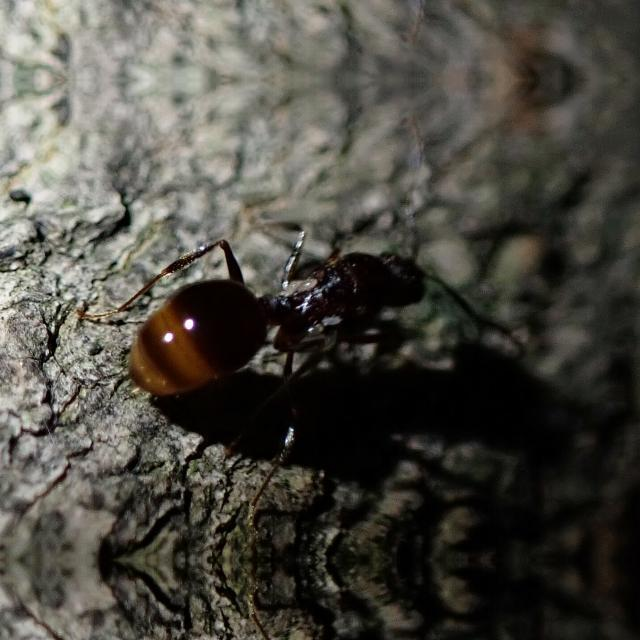Apheanogaster: (102, 218, 468, 408)
